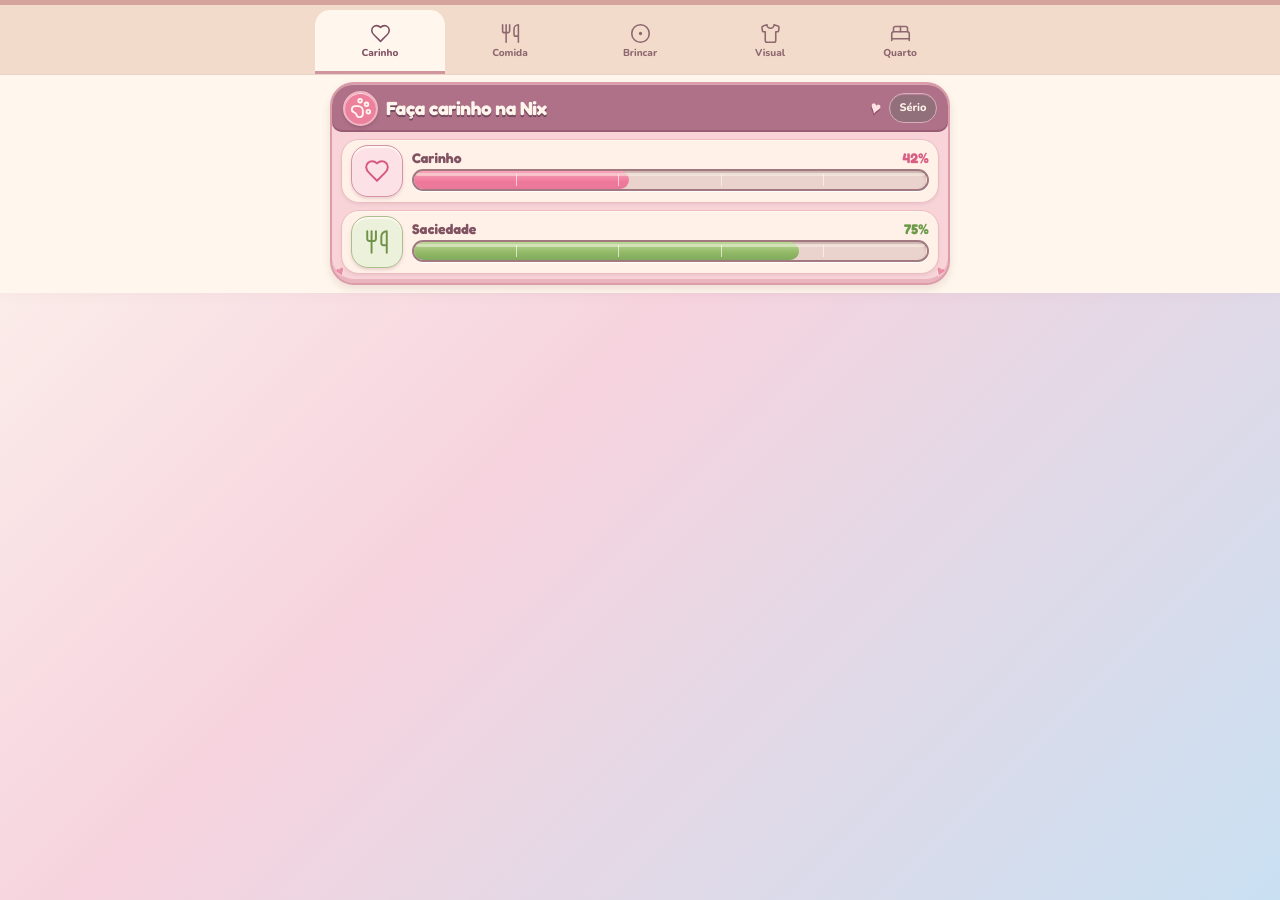
Nix abre Carinho primeiro, mostra seu humor e deixa Comida em segundo
Check: the tab "Carinho" is shown, box [315,10,445,74]
Check: the number of progress indicators is 2, box [412,169,929,191]; [412,240,929,262]
What coordinates should you click on to do the following:
click the tab "Comida"
I would click on:
 (510, 42)
Its box is [445,10,575,74].
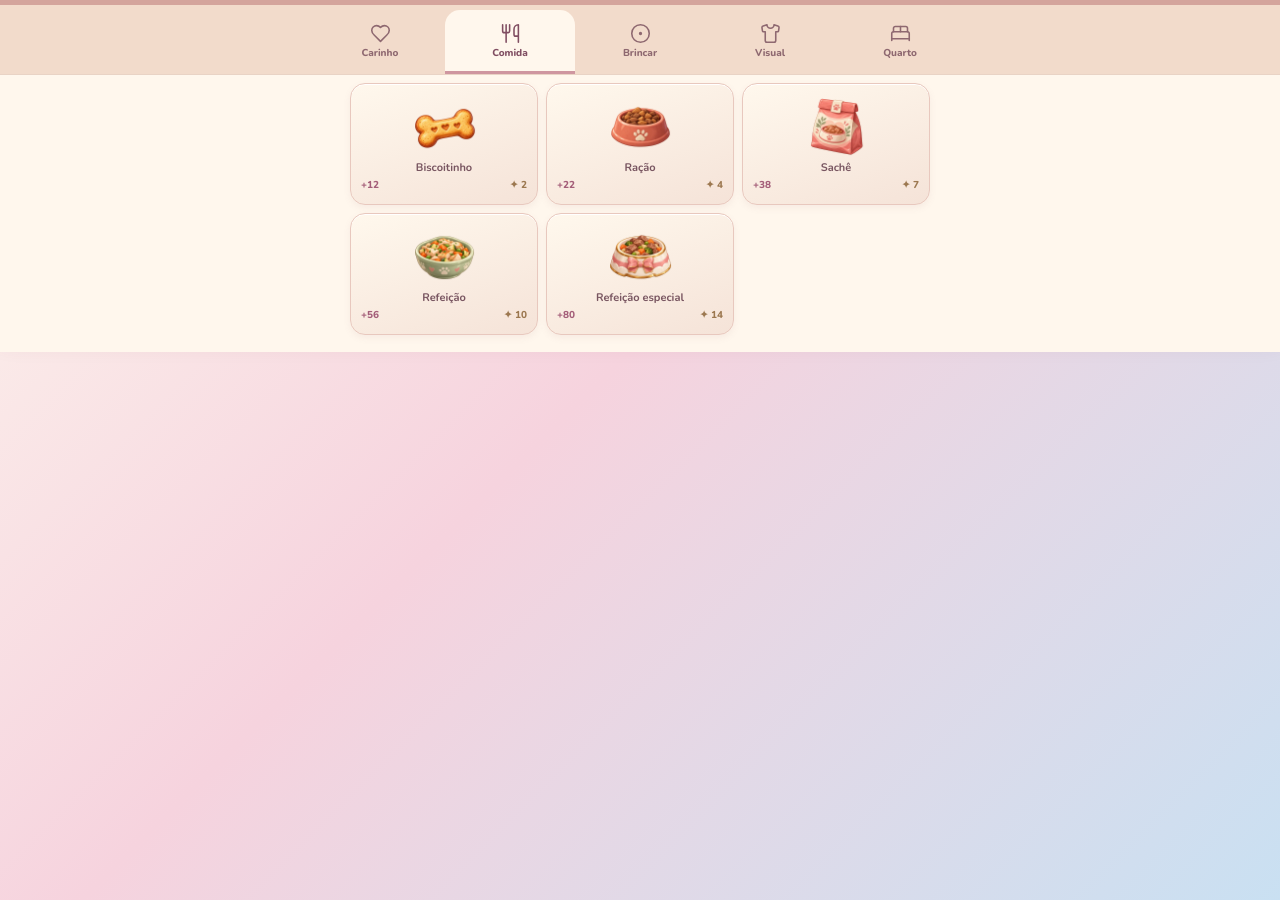
Check: the number of buttons is 5, box [350,83,538,205]; [546,83,734,205]; [742,83,930,205]; [350,213,538,335]; [546,213,734,335]
